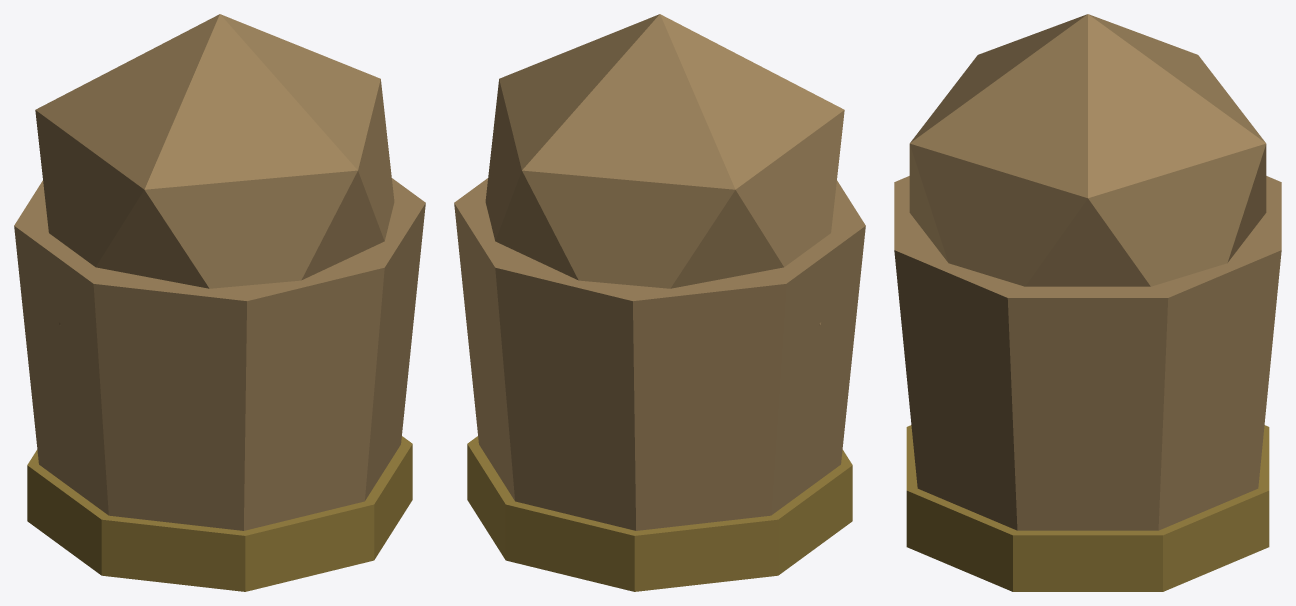
Rendered from inf_hocker_upper_arm.fbx.
The picture shows the model from 3 angles, left to right: view 1: azimuth 30°, elevation 25°; view 2: azimuth 150°, elevation 25°; view 3: azimuth 270°, elevation 25°; orthographic projection.
Visible parts, largest first — view 1: inf_hocker_upper_arm; view 2: inf_hocker_upper_arm; view 3: inf_hocker_upper_arm.
Part boxes in pixels (x1,y1,x2,y2): inf_hocker_upper_arm: [14, 14, 425, 591]; inf_hocker_upper_arm: [454, 14, 865, 591]; inf_hocker_upper_arm: [894, 14, 1281, 591].
Bounding box in the file's own units: 86.84 × 124 × 86.84.
